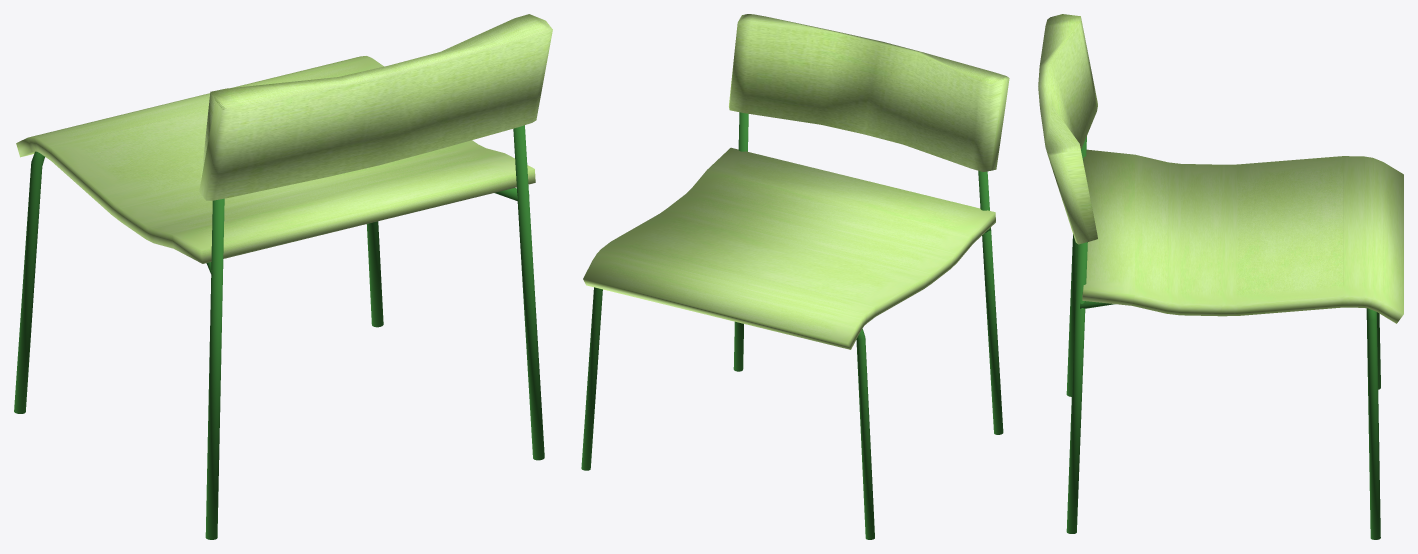
Rendered from chair7.fbx.
The picture shows the model from 3 angles, left to right: view 1: azimuth 30°, elevation 25°; view 2: azimuth 150°, elevation 25°; view 3: azimuth 270°, elevation 25°; orthographic projection. The views are drawn at different scales.
Parts seen in each view (by area): view 1: Cube; view 2: Cube; view 3: Cube.
Boxes of the visible parts, x1=… form: Cube: x1=14, y1=14, x2=552, y2=539; Cube: x1=581, y1=14, x2=1009, y2=539; Cube: x1=1038, y1=14, x2=1403, y2=539.
Size of the model in its own units: 1436 by 1647 by 1435.
